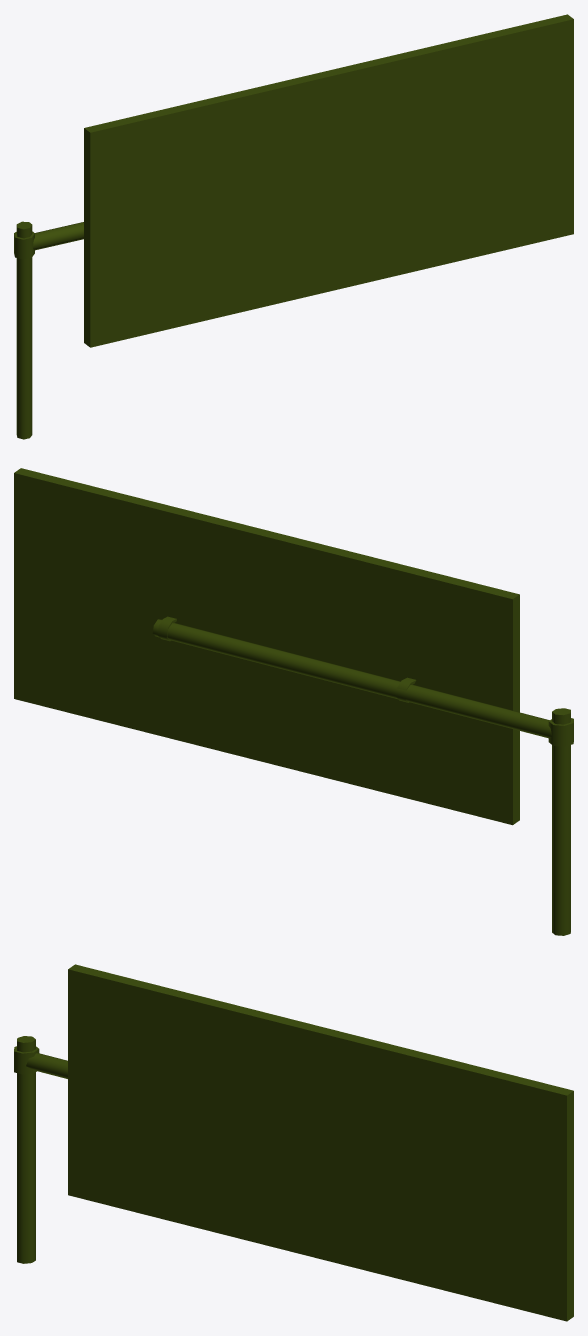
The model's file is T2_SpeedSigns3_M.fbx.
3 views of the same model, one above another, from view 1: azimuth 30°, elevation 25°; view 2: azimuth 150°, elevation 25°; view 3: azimuth 330°, elevation 25° (orthographic). The views are drawn at different scales.
Visible parts, largest first — view 1: T2_SpeedSigns3; view 2: T2_SpeedSigns3; view 3: T2_SpeedSigns3.
Part boxes in pixels (<box>): T2_SpeedSigns3: <box>14,14,573,439</box>; T2_SpeedSigns3: <box>14,468,573,935</box>; T2_SpeedSigns3: <box>14,964,573,1321</box>.
Bounding box in the file's own units: 0.9274 × 0.489 × 0.069.
